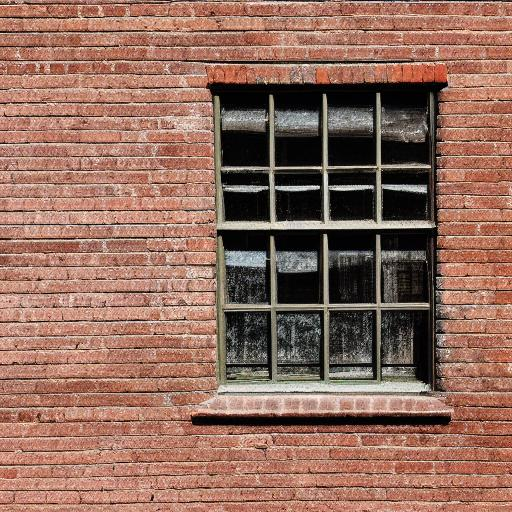Window: (191, 61, 456, 424)
